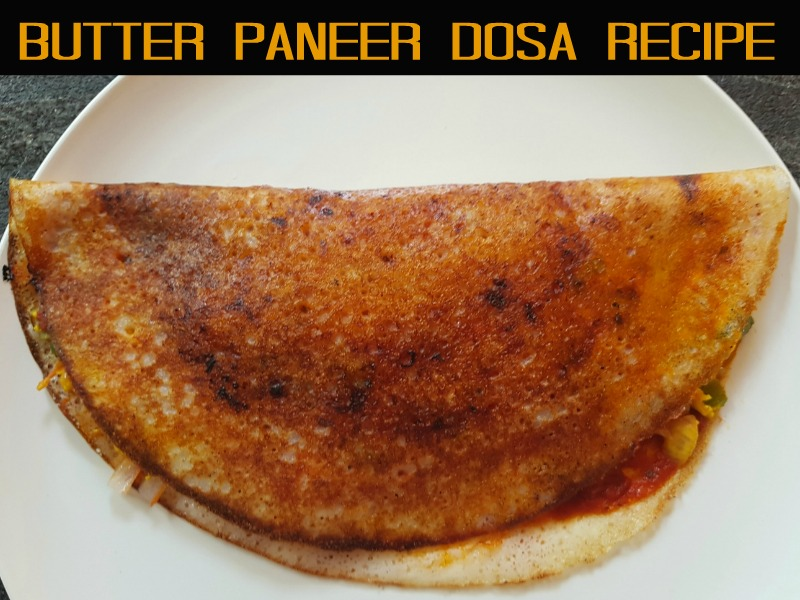dosa: (4, 171, 799, 583)
